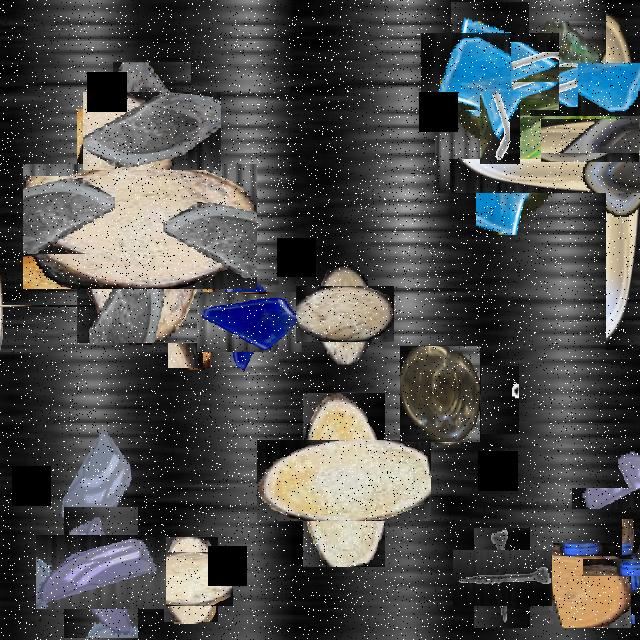glass: (98, 77, 206, 186), (436, 17, 544, 125), (50, 521, 152, 624), (59, 423, 131, 551), (208, 280, 290, 364), (595, 464, 640, 532)
metal: (463, 539, 541, 617), (480, 92, 520, 164), (481, 366, 519, 434)
plastic: (455, 42, 627, 214), (527, 80, 640, 271), (400, 347, 480, 442), (568, 91, 640, 189), (602, 538, 640, 595)
wood: (50, 136, 230, 316), (280, 416, 408, 544), (551, 544, 633, 626), (306, 276, 384, 353), (156, 545, 226, 614), (168, 276, 220, 368), (0, 258, 48, 353)
